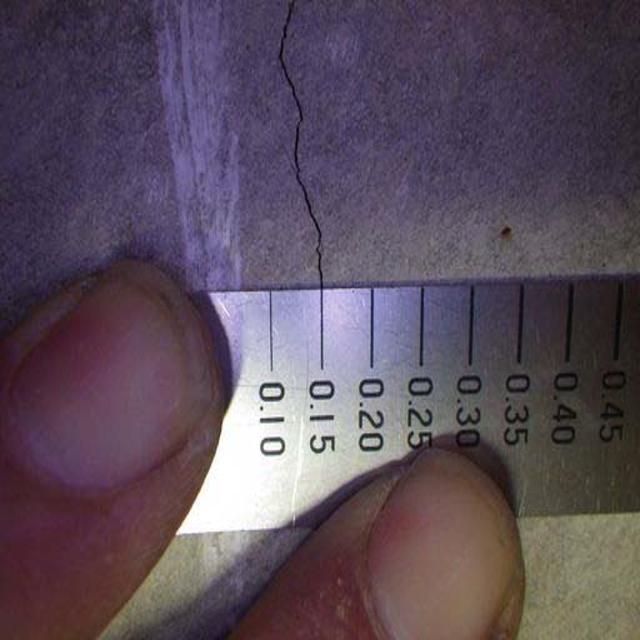crack: (260, 6, 349, 293)
